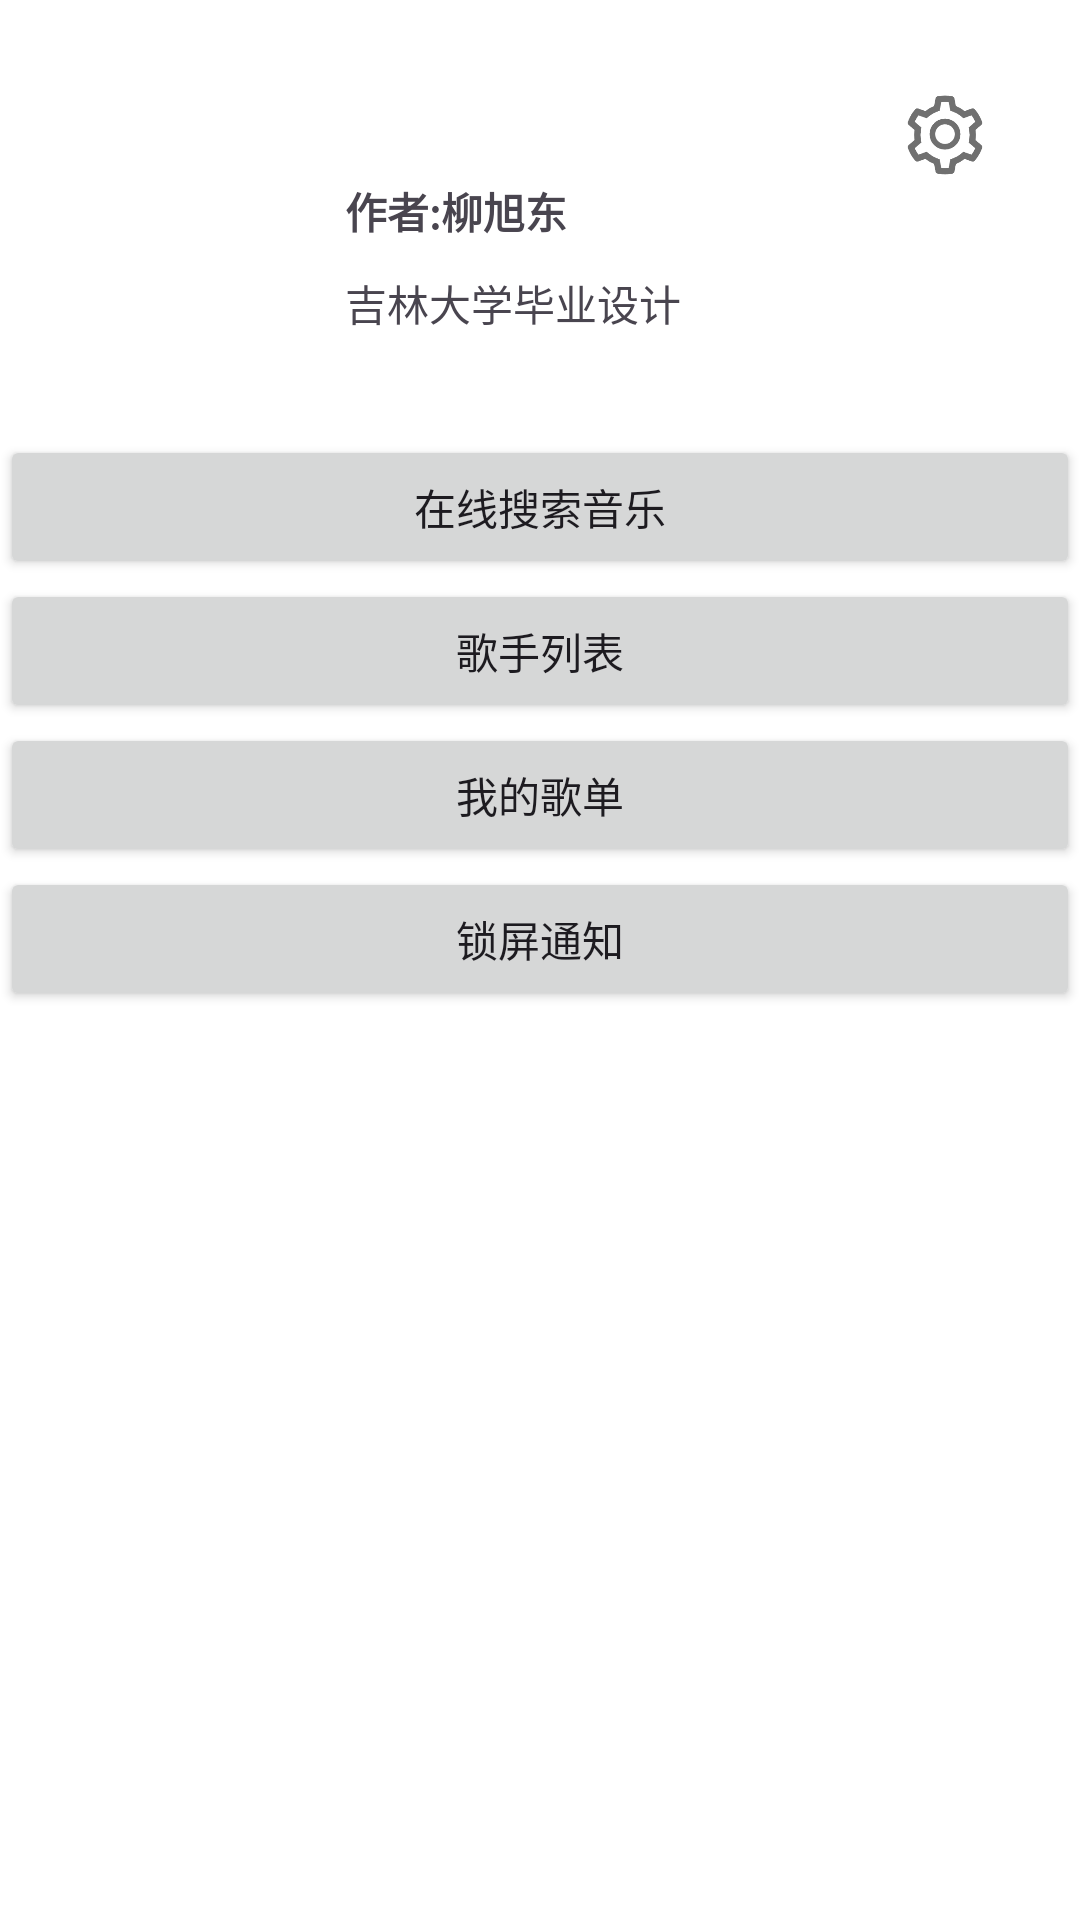

Icons on this 1080x1920 Android screen, each with the point to tap as [x,y]:
setting: [945,135]
